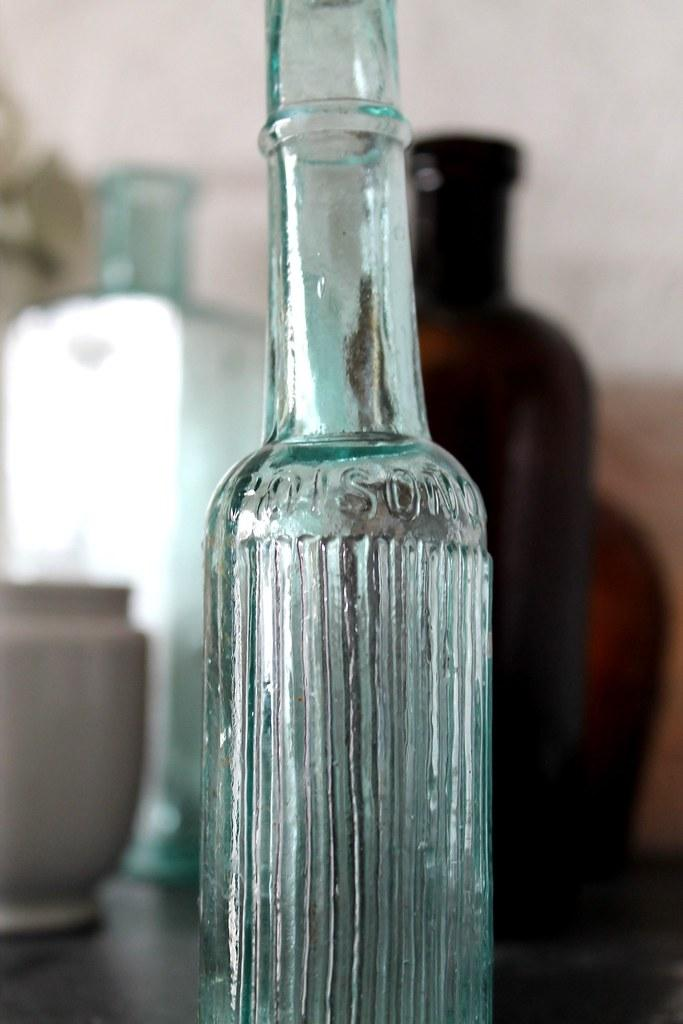bottle: (198, 1, 496, 1023), (402, 133, 599, 939)
